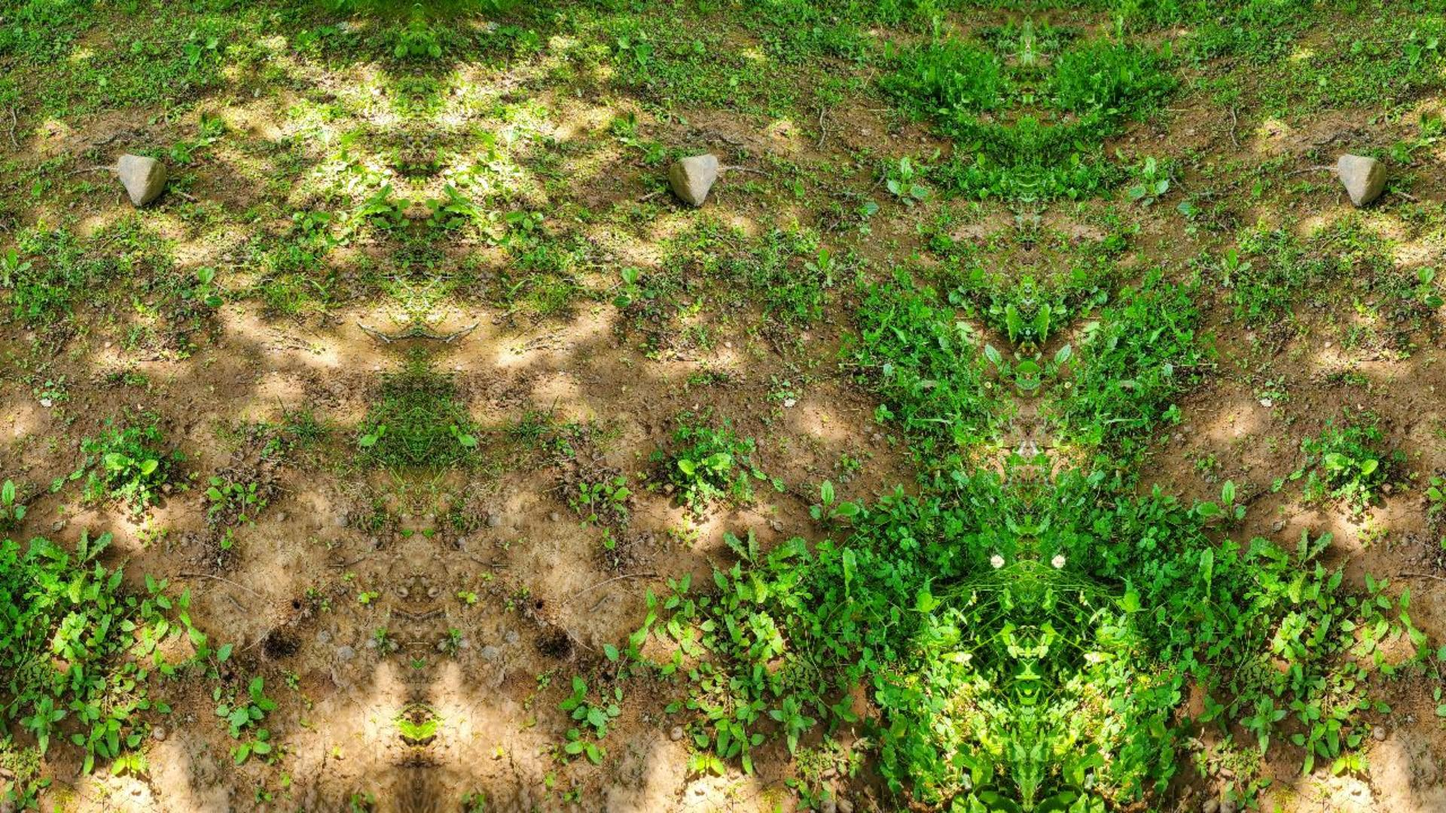rock: (1336, 155, 1386, 207), (669, 154, 718, 207), (117, 155, 166, 207)
